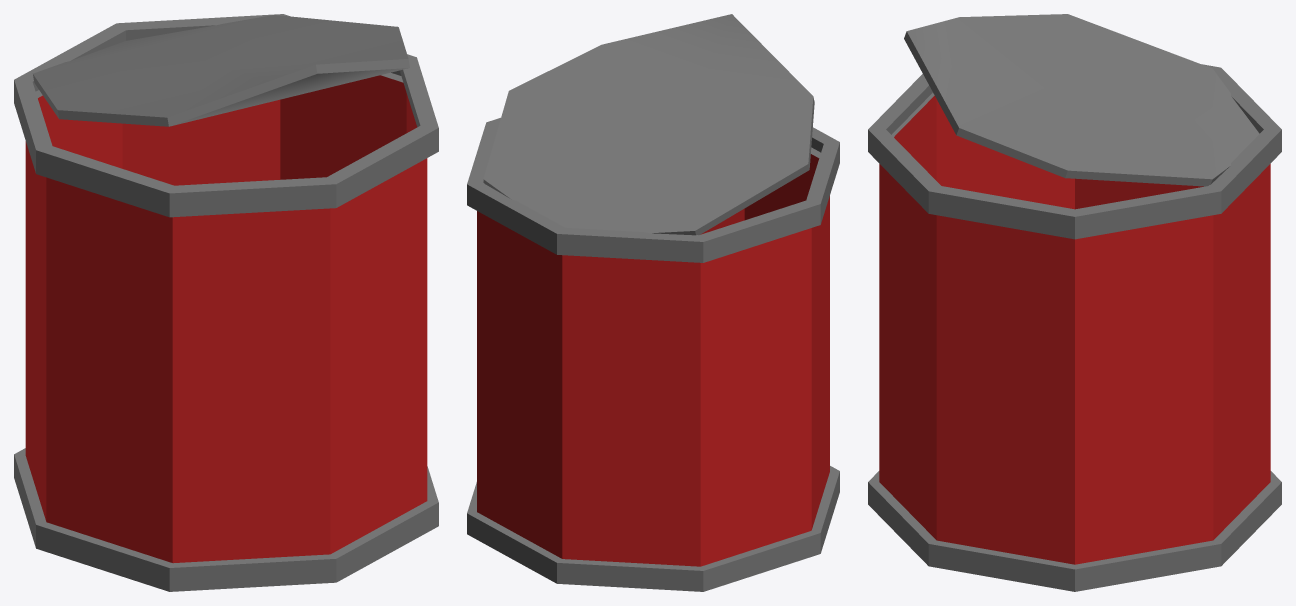
The model's file is can_opened_text (1).fbx.
3 views of the same model, side by side, from view 1: azimuth 30°, elevation 25°; view 2: azimuth 150°, elevation 25°; view 3: azimuth 270°, elevation 25° (orthographic). The views are drawn at different scales.
Parts seen in each view (by area): view 1: conserve_opened; view 2: conserve_opened; view 3: conserve_opened.
Boxes of the visible parts, <box> form: conserve_opened: <box>14,14,438,591</box>; conserve_opened: <box>467,14,839,591</box>; conserve_opened: <box>868,14,1281,591</box>.
Size of the model in its own units: 10 by 12.62 by 10.
1 material, 1 textured.
